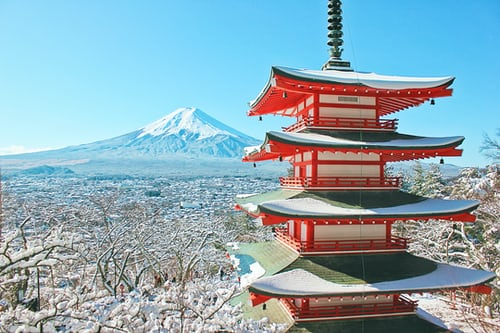Temple: (237, 8, 496, 323)
